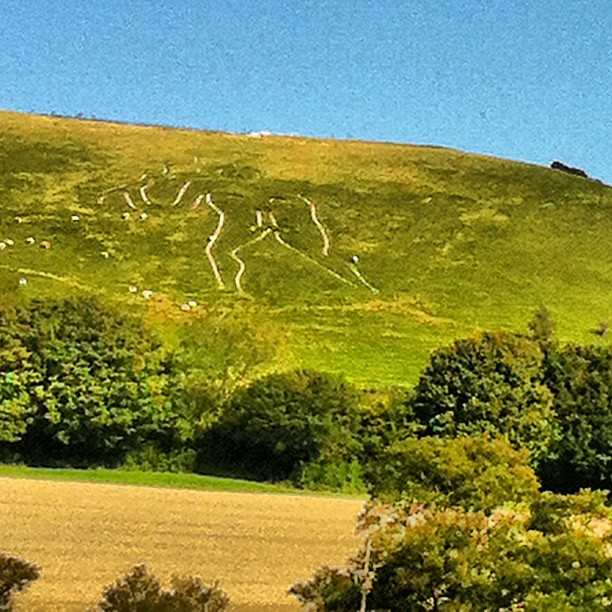grass: (1, 112, 612, 364)
sky: (2, 1, 612, 108)
vegetation: (14, 310, 600, 493)
